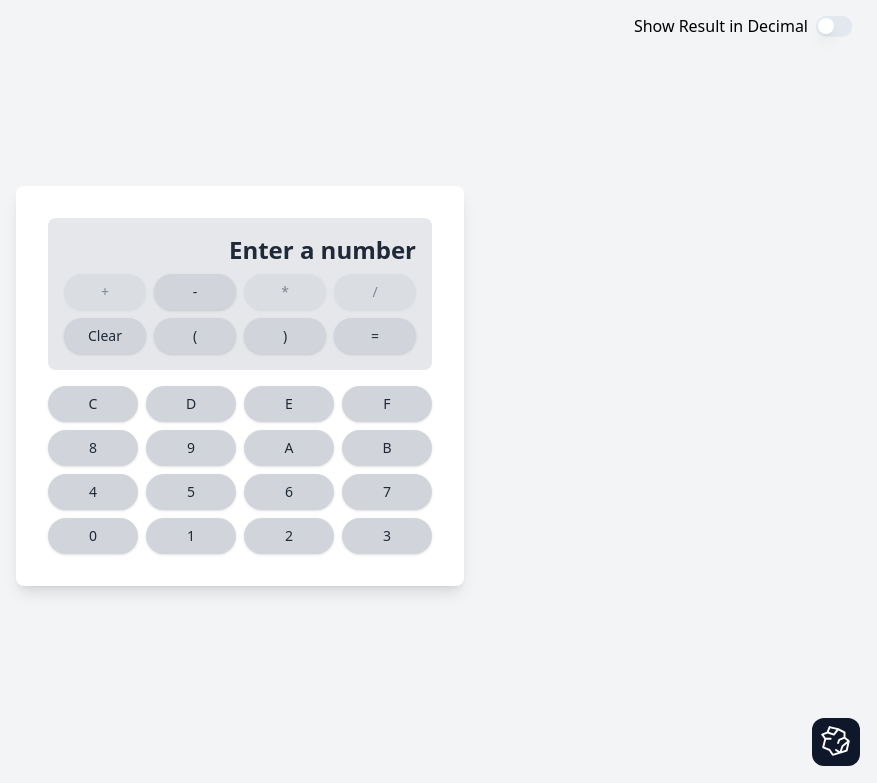
Page › click a button and see if the corresponding number apprears in the entry area
Click the button with test id "key-1" at (191, 536), box [146,518,236,554]
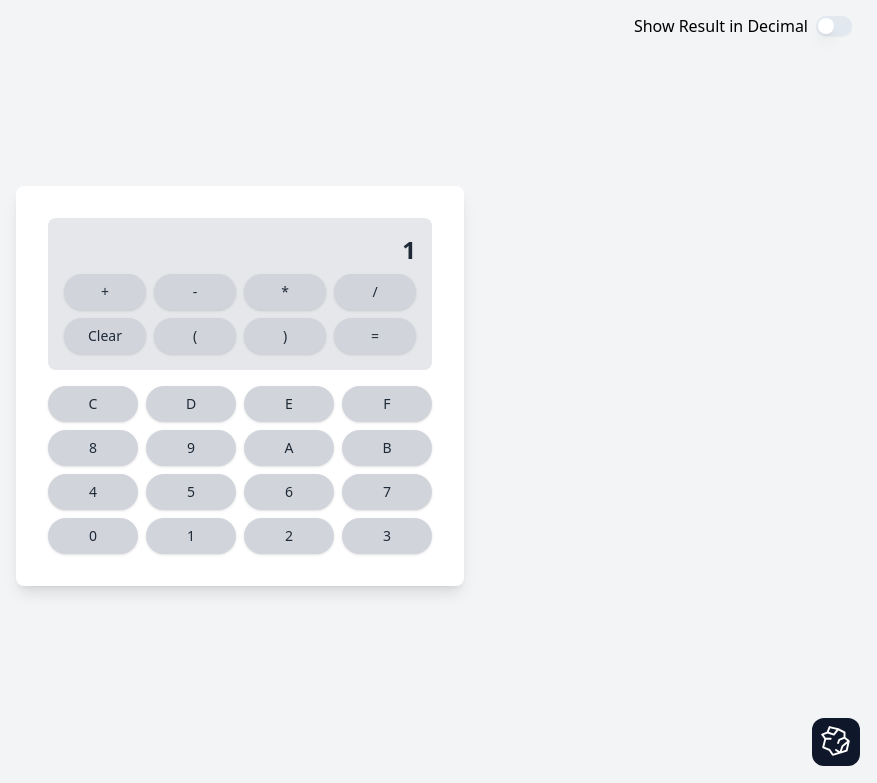
Check: the text with test id "entryArea" reads "1", box [402,233,416,266]
